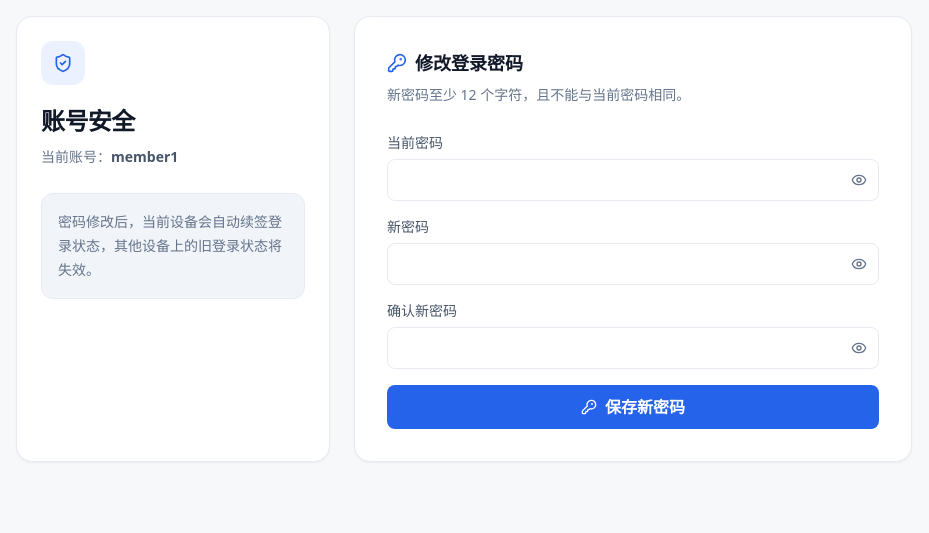
Scenario: AccountSecurityPage › submits the password change and shows the renewed-session result
Type "current-password" into the password field labelled "当前密码" at (633, 180), box [387, 159, 879, 201]
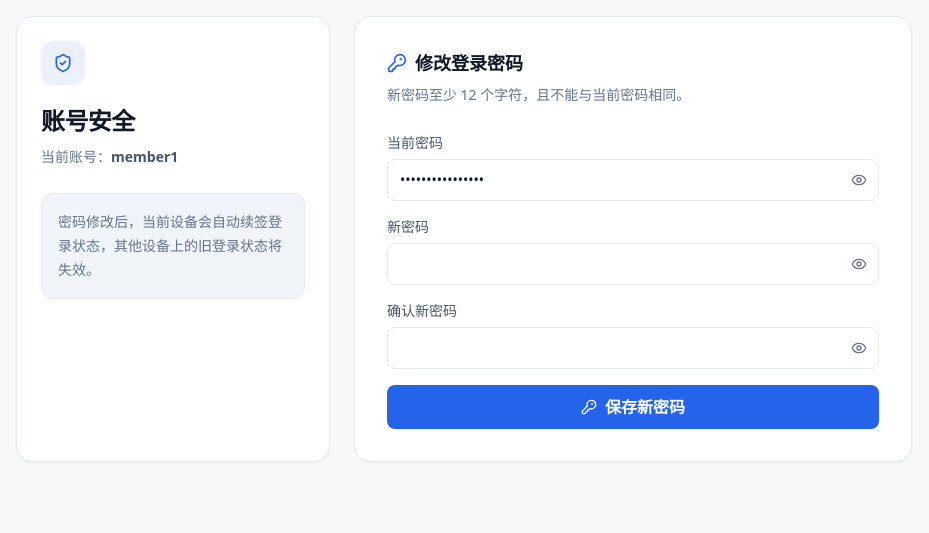
Type "new-password-123" into the password field labelled "新密码" at (633, 264), box [387, 243, 879, 285]
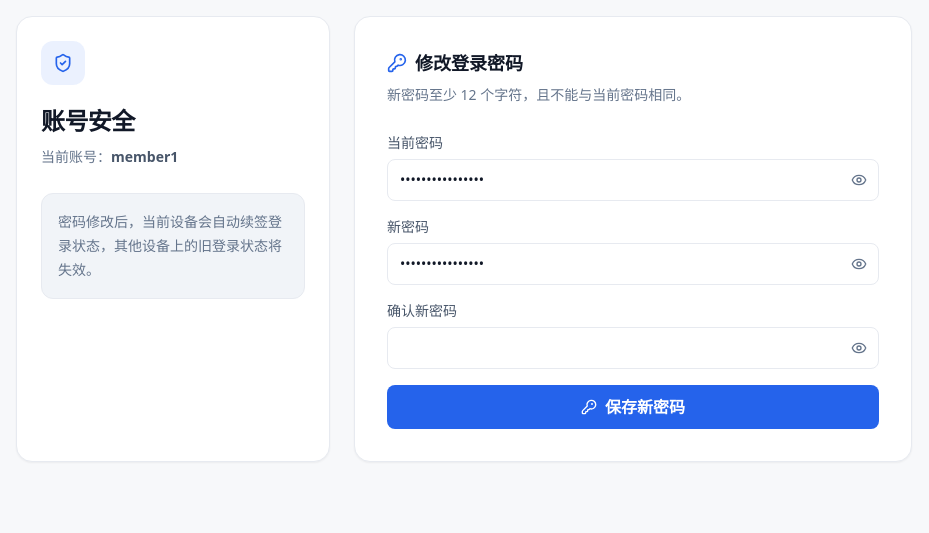
Type "new-password-123" into the password field labelled "确认新密码" at (633, 348), box [387, 327, 879, 369]
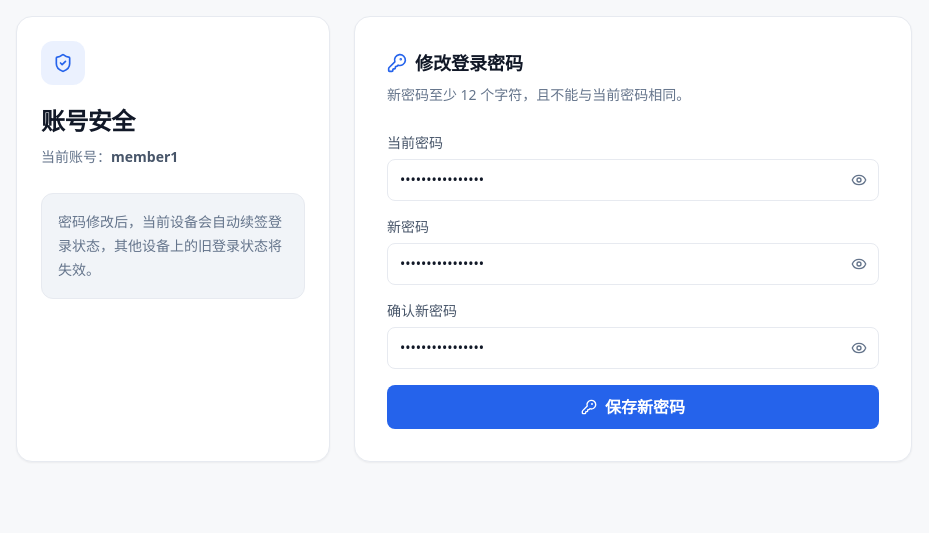
Click the button "保存新密码" at (633, 407), box [387, 385, 879, 429]
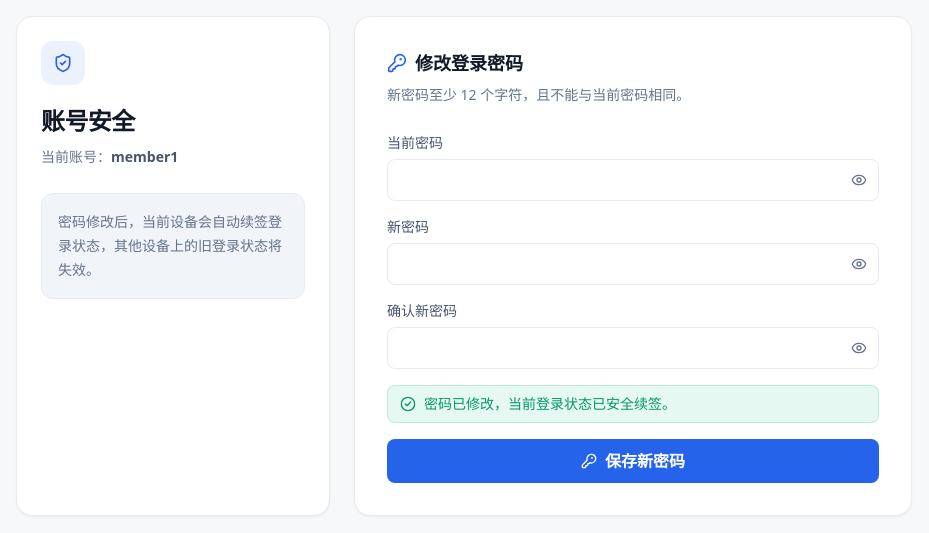
Now the message shows "密码已修改", box [424, 394, 676, 413]
Now the password field labelled "当前密码" is empty, box [387, 159, 879, 201]
